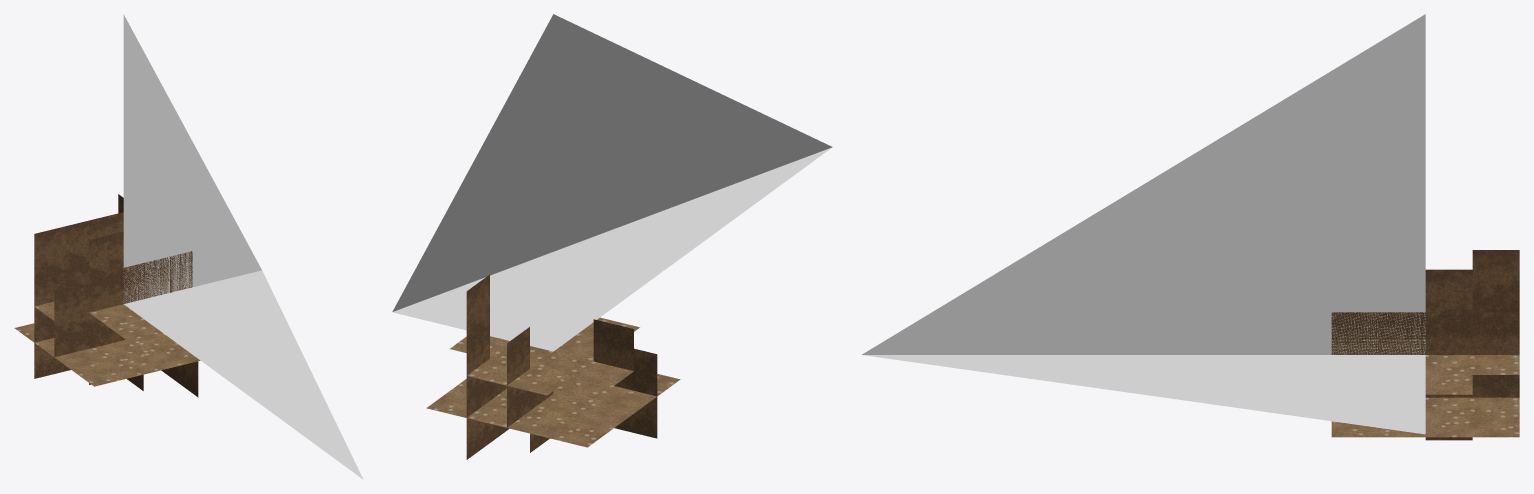
File: tiles.glb
3 renders of one model, left to right at view 1: azimuth 30°, elevation 25°; view 2: azimuth 150°, elevation 25°; view 3: azimuth 270°, elevation 25°, orthographic. The views are drawn at different scales.
Parts seen in each view (by area): view 1: mb_frame, tetra_b1h3, edge_inner_b2h4, slab_b4h0, edge_b1h1, tetra_b3h1, ell_b3h0, edge_b0h2, ell_b0h3, corner_b0h1, edge_inner_b4h2, tetra_b3h1_outdoor (+11 smaller); view 2: mb_frame, twist_left_b1h3, ell_b2h1_b, ell_b3h0, ell_b3h0_outdoor, ell_b1h2_b, tetra_b3h1, twist_left_b2h2, edge_b2h0, twist_left_b3h1_outdoor, tetra_b3h1_outdoor, spike_b1h1 (+10 smaller); view 3: mb_frame, corner_inner_b3h4, tetra_b1h3, twist_right_b3h1, ell_b0h3, ell_b1h2_a, corner_b0h1, edge_b1h1, edge_b2h0, twist_right_b3h1_outdoor, ell_b2h1_a, ell_inner_b3h2_b (+6 smaller).
Part boxes in pixels (x1,y1,x2,y2): mb_frame: (123,14,363,479); tetra_b1h3: (54,231,123,320); edge_inner_b2h4: (123,251,192,303); slab_b4h0: (89,334,197,377); edge_b1h1: (34,226,68,375); tetra_b3h1: (35,301,123,357); ell_b3h0: (35,338,128,386); edge_b0h2: (36,212,123,267); ell_b0h3: (89,232,123,276); corner_b0h1: (34,225,68,269); edge_inner_b4h2: (91,335,197,377); tetra_b3h1_outdoor: (34,302,123,356); mb_frame: (392,14,832,351); twist_left_b1h3: (593,319,657,437); ell_b2h1_b: (466,274,529,427); ell_b3h0: (530,374,680,430); ell_b3h0_outdoor: (428,374,679,437); ell_b1h2_b: (466,327,529,459); tetra_b3h1: (509,351,633,394); twist_left_b2h2: (450,327,529,458); edge_b2h0: (426,391,569,437); twist_left_b3h1_outdoor: (466,318,640,443); tetra_b3h1_outdoor: (521,352,632,393); spike_b1h1: (466,276,673,438); mb_frame: (862,14,1425,434); corner_inner_b3h4: (1331,312,1461,396); tetra_b1h3: (1425,269,1519,354); twist_right_b3h1: (1331,397,1472,437); ell_b0h3: (1425,269,1472,312); ell_b1h2_a: (1472,312,1519,354); corner_b0h1: (1472,250,1519,292); edge_b1h1: (1472,250,1519,312); edge_b2h0: (1472,397,1519,437); twist_right_b3h1_outdoor: (1331,375,1519,437); ell_b2h1_a: (1472,375,1519,437); ell_inner_b3h2_b: (1425,355,1472,394).
Bounding box in the file's own units: 1.5 × 2.5 × 3.5.
Materials: 2 (2 with a texture image).
